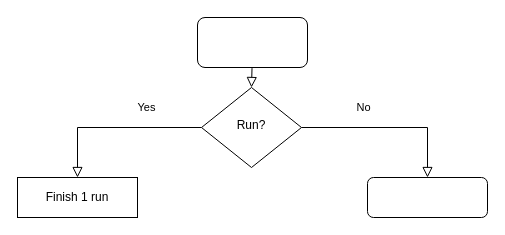
The diagram is 505 pixels wide and 235 high, and some of its shapes have lost their labels. The shapes that lost their labels are listed below. From the top down, each one's centre as x and y in pixels, then its label:
pixel 252 42: Wake up
pixel 427 197: What now?
